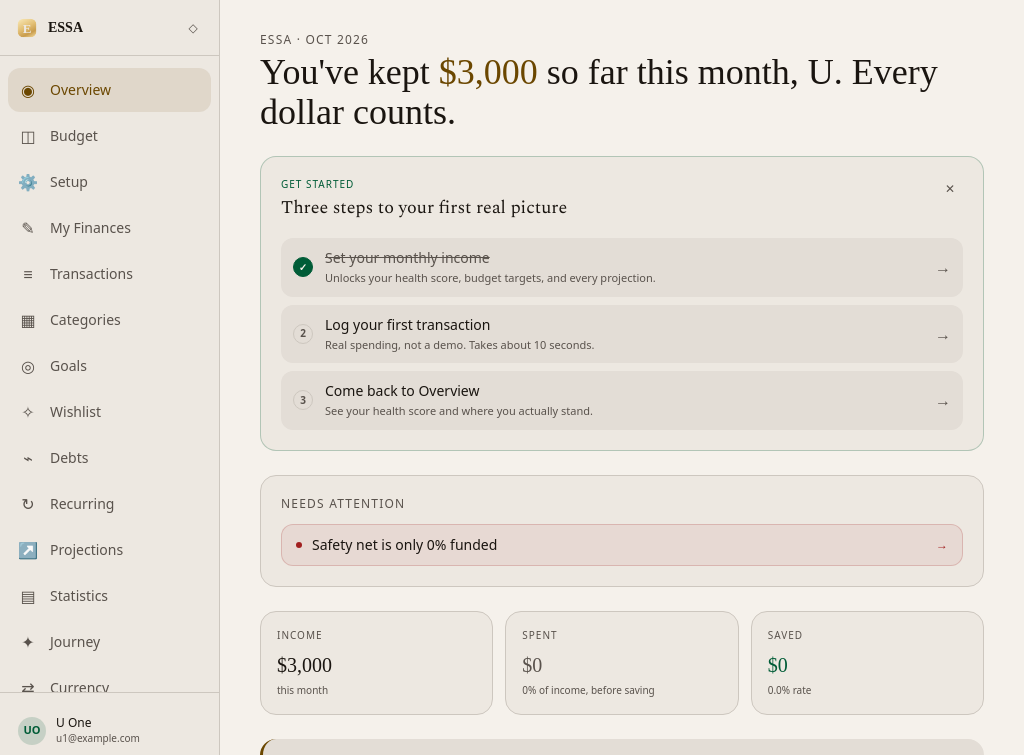
Scenario: ERR-02: a failed backup › stays on screen, with Try again, instead of fading after 4 seconds
The image size is (1024, 755).
Check: the button "⚙ Setup" is shown, box [8, 160, 211, 204]
Click the button "✧ Wishlist" at (110, 412), box [8, 390, 211, 434]
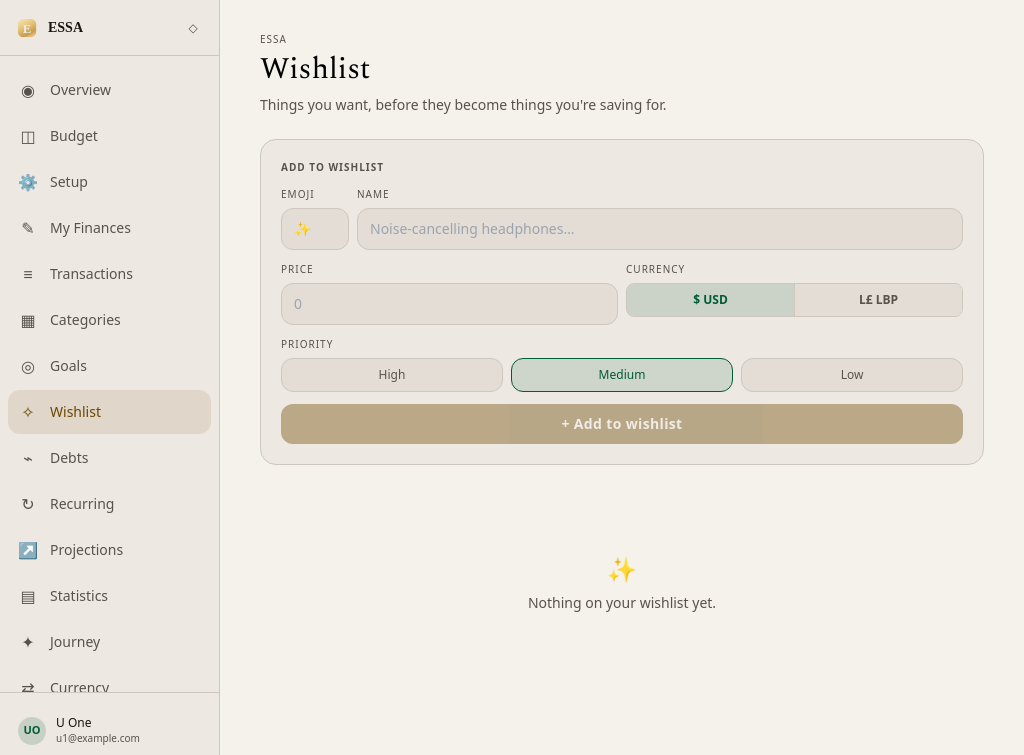
Type "Amber stool" into the field with id "wish-name" at (660, 229), box [357, 208, 963, 250]
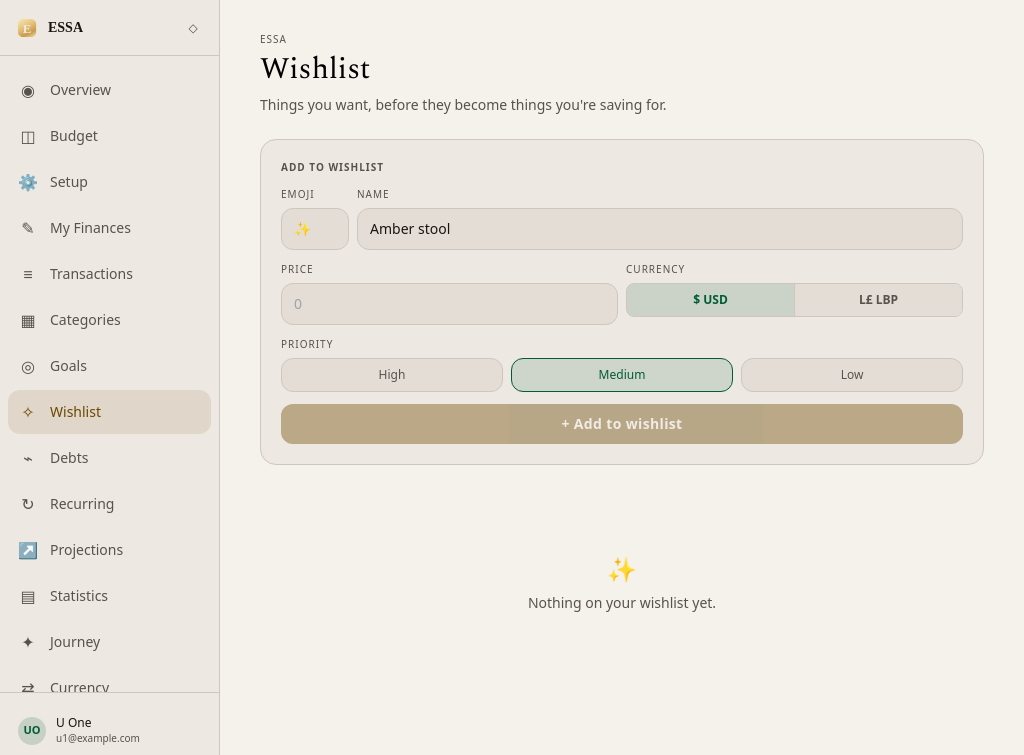
Type "22.15" into the field with id "wish-price" at (450, 304), box [281, 283, 618, 325]
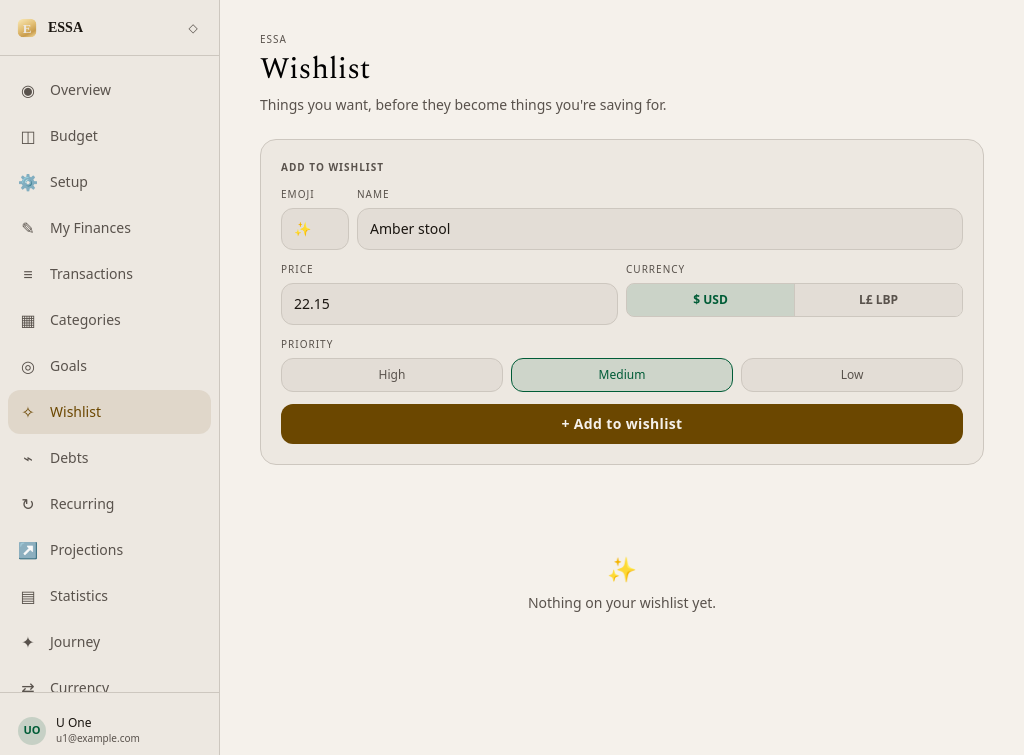
Click the button "+ Add to wishlist" at (622, 424), box [281, 404, 963, 444]
Wait 13000 ms
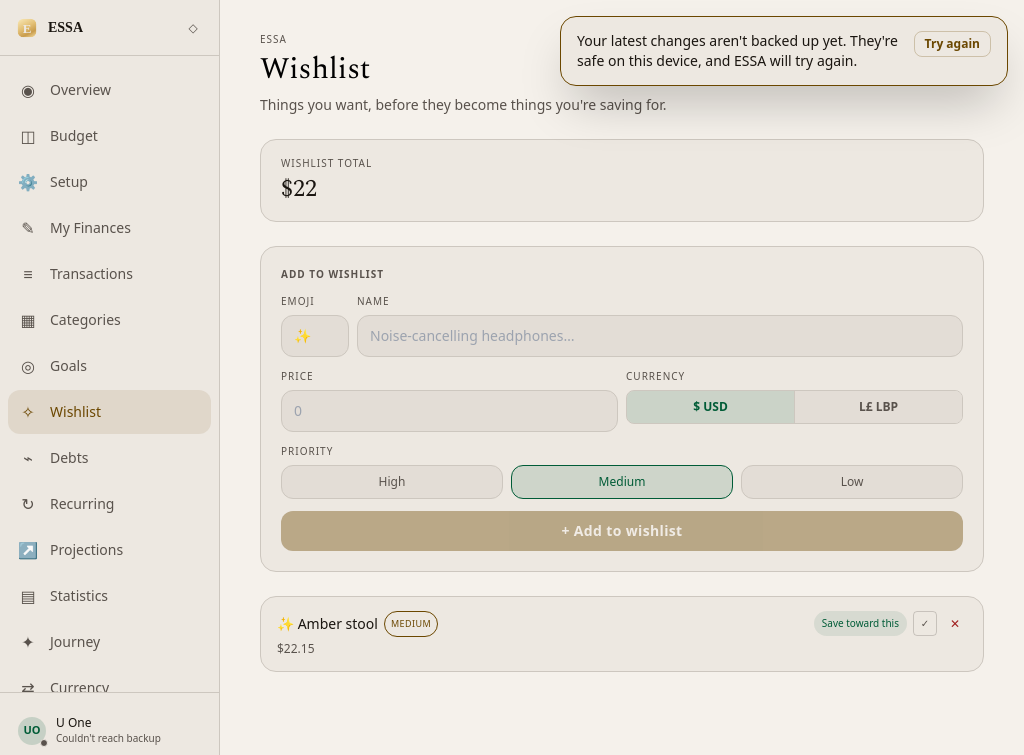
Check: the text "Your latest changes aren't backed up yet. They're safe on this device, and ESSA will try again." is shown, box [577, 31, 898, 70]
Check: the button "Try again" is shown, box [914, 31, 991, 57]
